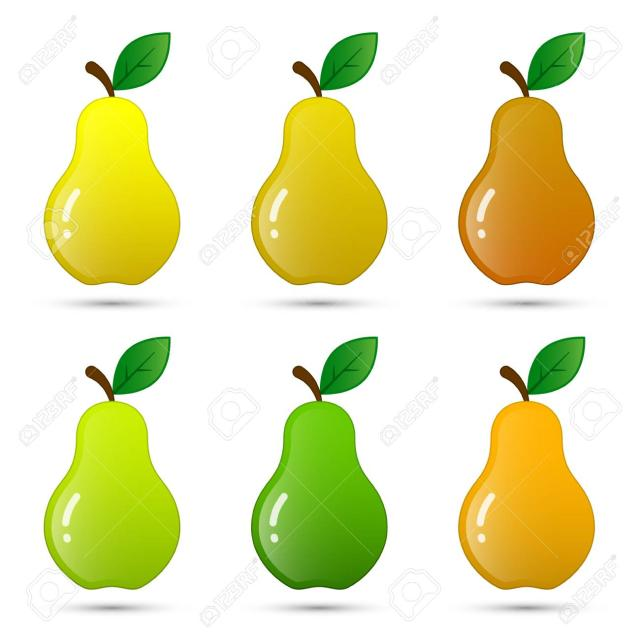pera: (251, 345, 401, 608)
